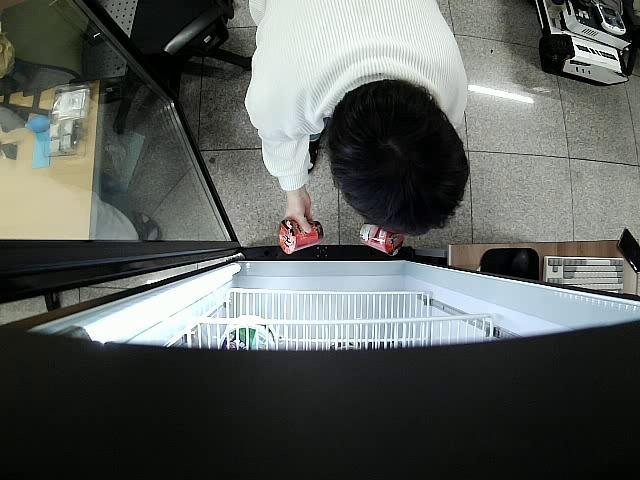02_shinRamen_S: (276, 218, 324, 253), (359, 225, 406, 254)
